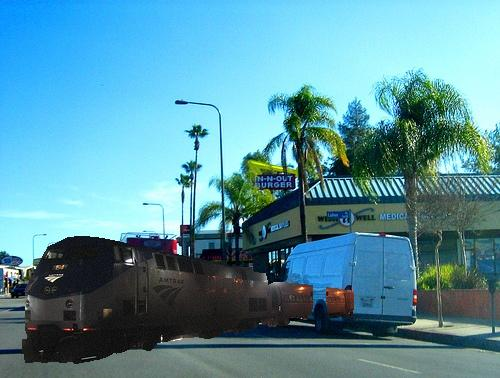tampered: (22, 237, 354, 364)
